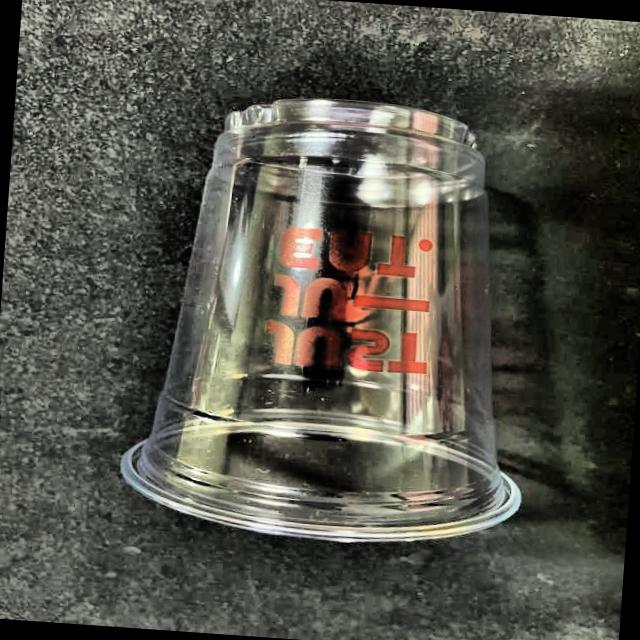plastic cup: (117, 80, 554, 562)
